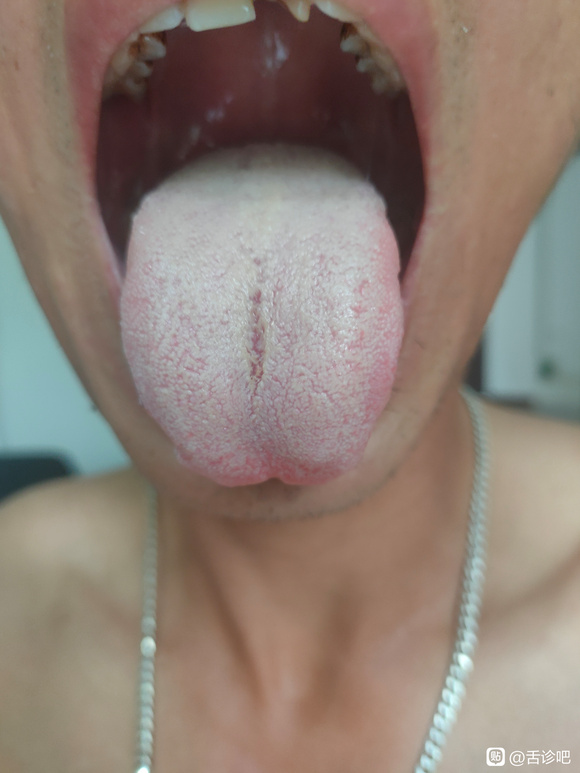baitaishe: (120, 141, 403, 488)
liewenshe: (246, 289, 268, 386)
xinfeiao: (230, 467, 307, 488)
